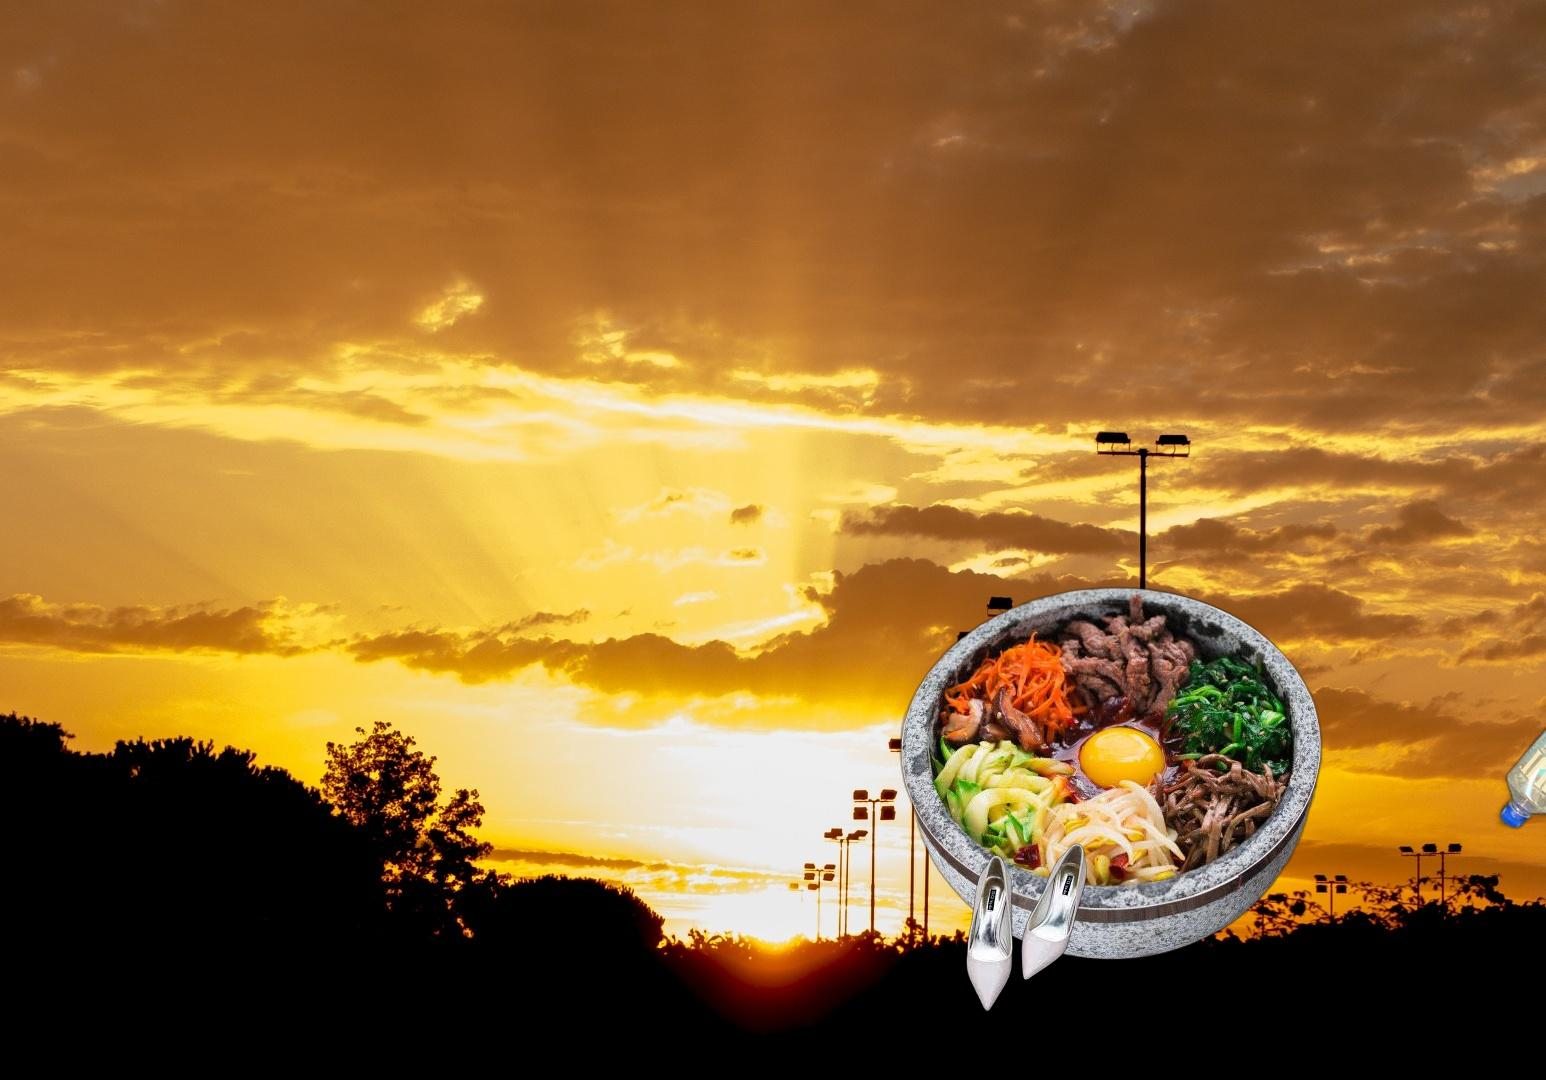biological: (895, 584, 1326, 971)
plastic-bottles: (1492, 663, 1546, 834)
shoes: (963, 841, 1089, 1014)
